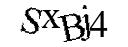4: (89, 11, 107, 36)
B: (57, 13, 84, 41)
S: (20, 7, 41, 33)
j: (81, 5, 90, 40)
x: (41, 10, 60, 27)
